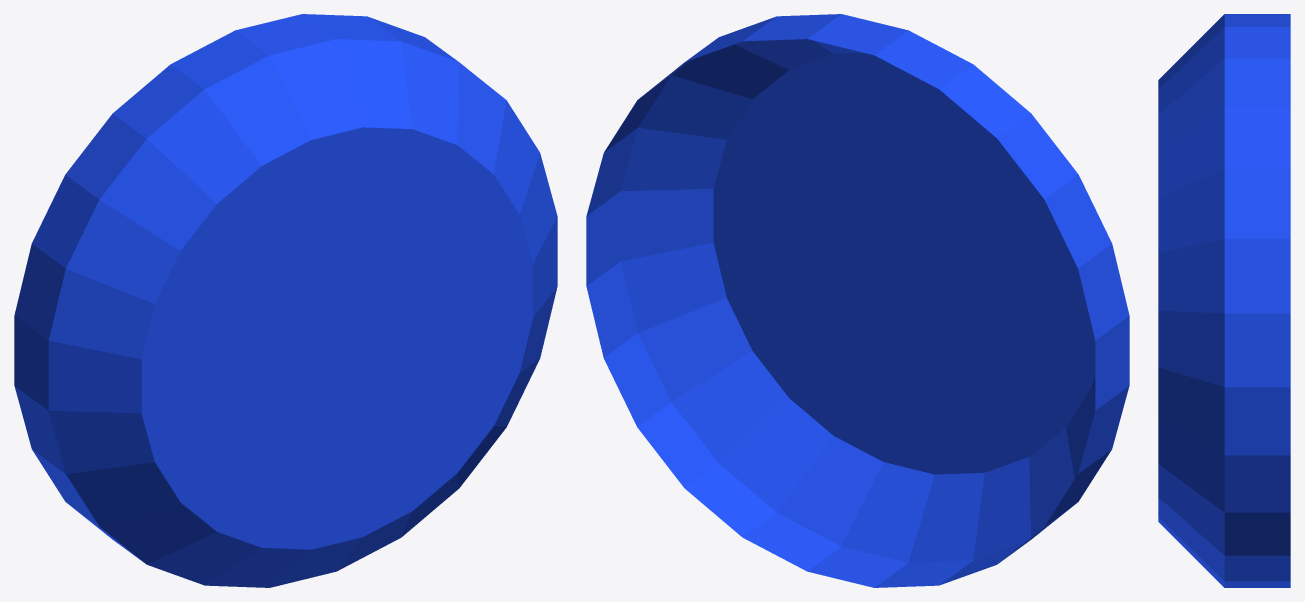
File: Defeatured_2F_85_PAD_OPEN_basestep_6.obj
3 renders of one model, left to right at view 1: azimuth 30°, elevation 25°; view 2: azimuth 150°, elevation 25°; view 3: azimuth 270°, elevation 25°, orthographic. The views are drawn at different scales.
Visible parts, largest first — view 1: Defeatured_2F_85_PAD_OPEN_basestep_Blue_Ribbon; view 2: Defeatured_2F_85_PAD_OPEN_basestep_Blue_Ribbon; view 3: Defeatured_2F_85_PAD_OPEN_basestep_Blue_Ribbon.
Part boxes in pixels (x1,y1,x2,y2): Defeatured_2F_85_PAD_OPEN_basestep_Blue_Ribbon: (14,14,557,587); Defeatured_2F_85_PAD_OPEN_basestep_Blue_Ribbon: (586,14,1129,587); Defeatured_2F_85_PAD_OPEN_basestep_Blue_Ribbon: (1158,14,1290,587).
Size of the model in its own units: 0.00327 by 0.00327 by 0.000762.
